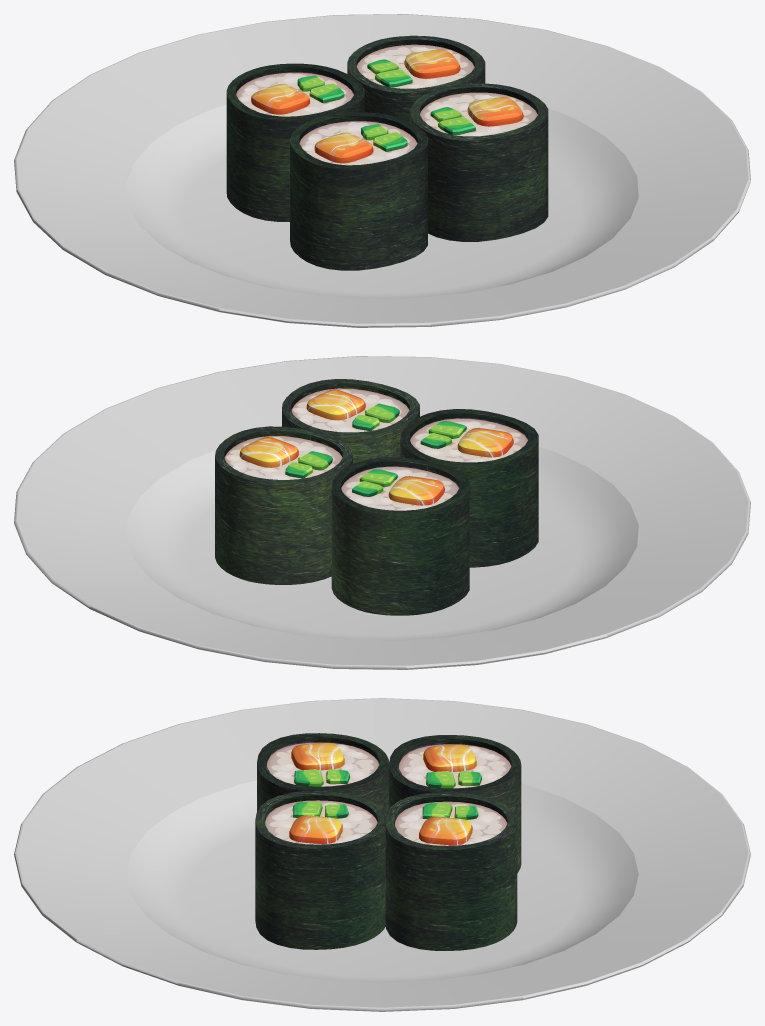
The model's file is maki_sushi_tabak.fbx.
The picture shows the model from 3 angles, top to bottom: view 1: azimuth 30°, elevation 25°; view 2: azimuth 150°, elevation 25°; view 3: azimuth 270°, elevation 25°; orthographic projection.
Visible parts, largest first — view 1: maki_Sushi_tabak, sushi_parca1, sushi_parca4, sushi_parca2, sushi_parca3; view 2: maki_Sushi_tabak, sushi_parca2, sushi_parca3, sushi_parca1, sushi_parca4; view 3: maki_Sushi_tabak, sushi_parca3, sushi_parca4, sushi_parca2, sushi_parca1.
Boxes of the visible parts, x1,y1,x2,y2 form: maki_Sushi_tabak: [14, 14, 750, 327]; sushi_parca1: [290, 112, 427, 270]; sushi_parca4: [410, 83, 548, 241]; sushi_parca2: [226, 63, 364, 221]; sushi_parca3: [347, 35, 485, 121]; maki_Sushi_tabak: [14, 356, 750, 669]; sushi_parca2: [331, 457, 469, 615]; sushi_parca3: [215, 426, 352, 584]; sushi_parca1: [400, 409, 538, 567]; sushi_parca4: [282, 379, 419, 463]; maki_Sushi_tabak: [14, 698, 750, 1011]; sushi_parca3: [385, 792, 517, 950]; sushi_parca4: [255, 791, 387, 949]; sushi_parca2: [389, 735, 521, 873]; sushi_parca1: [257, 733, 389, 814].
Bounding box in the file's own units: 46.09 × 7.82 × 46.09.
